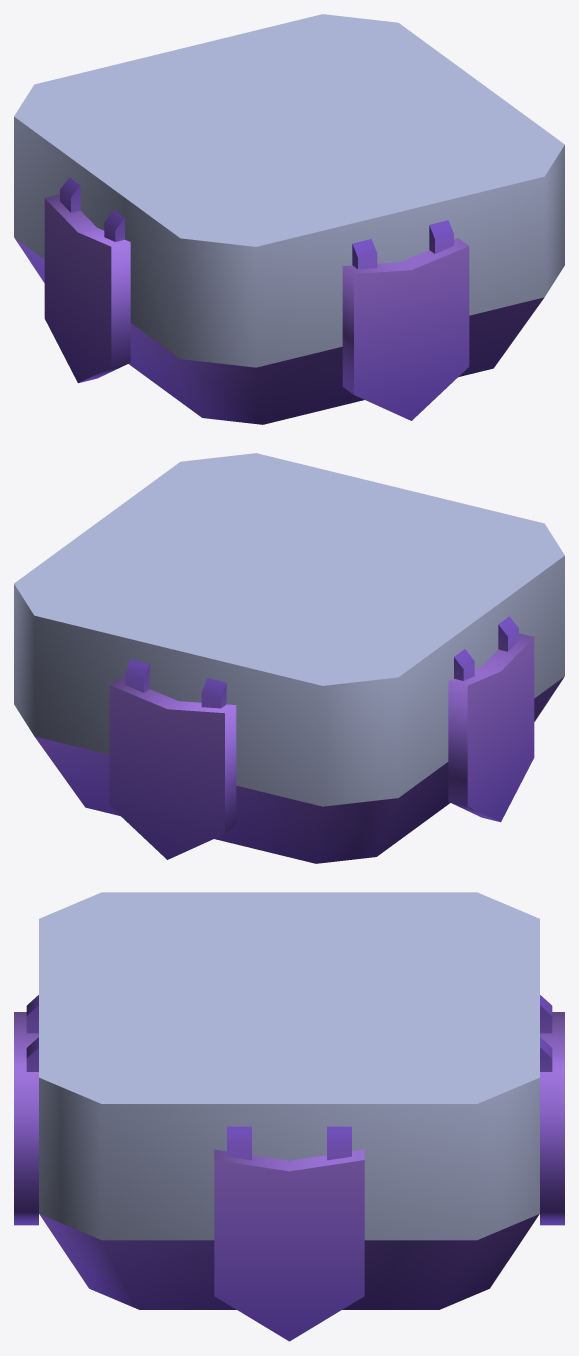
Rendered from tower-square-middle-a.fbx.
The picture shows the model from 3 angles, top to bottom: view 1: azimuth 30°, elevation 25°; view 2: azimuth 150°, elevation 25°; view 3: azimuth 270°, elevation 25°; orthographic projection. The views are drawn at different scales.
Parts seen in each view (by area): view 1: tower-square-middle-a; view 2: tower-square-middle-a; view 3: tower-square-middle-a.
Boxes of the visible parts, x1,y1,x2,y2 form: tower-square-middle-a: (14, 14, 564, 424); tower-square-middle-a: (14, 453, 564, 863); tower-square-middle-a: (14, 892, 564, 1341).
Size of the model in its own units: 110 by 50 by 110.
